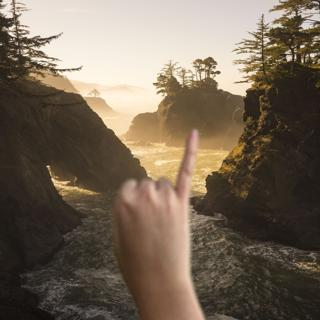Fine: (109, 130, 213, 306)
